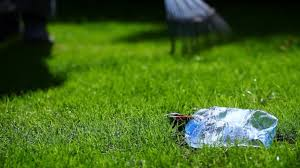plastic_bottle: (178, 105, 278, 150)
